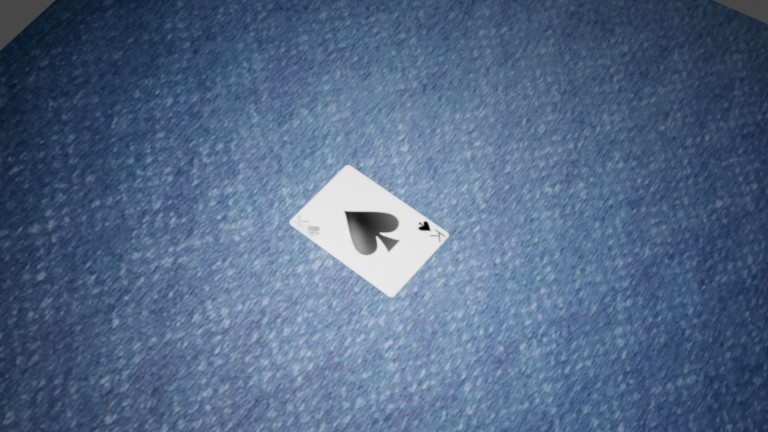king_of_spades: (116, 85, 130, 96), (165, 87, 179, 98)
